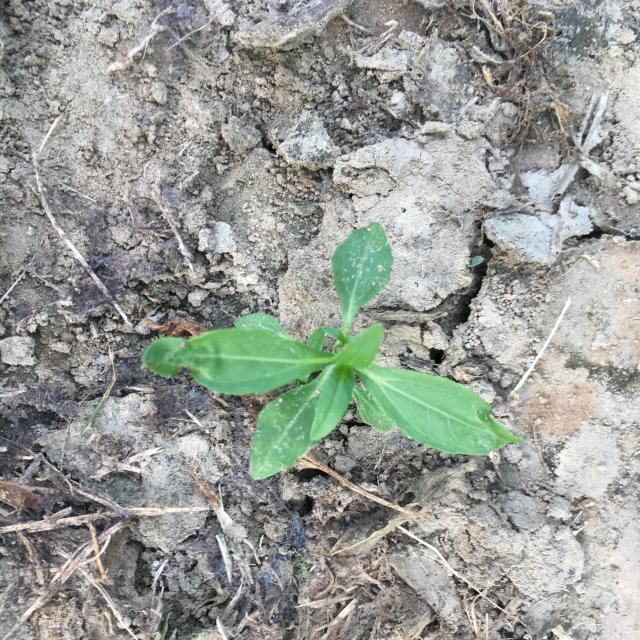Eclipta: (142, 222, 528, 480)
